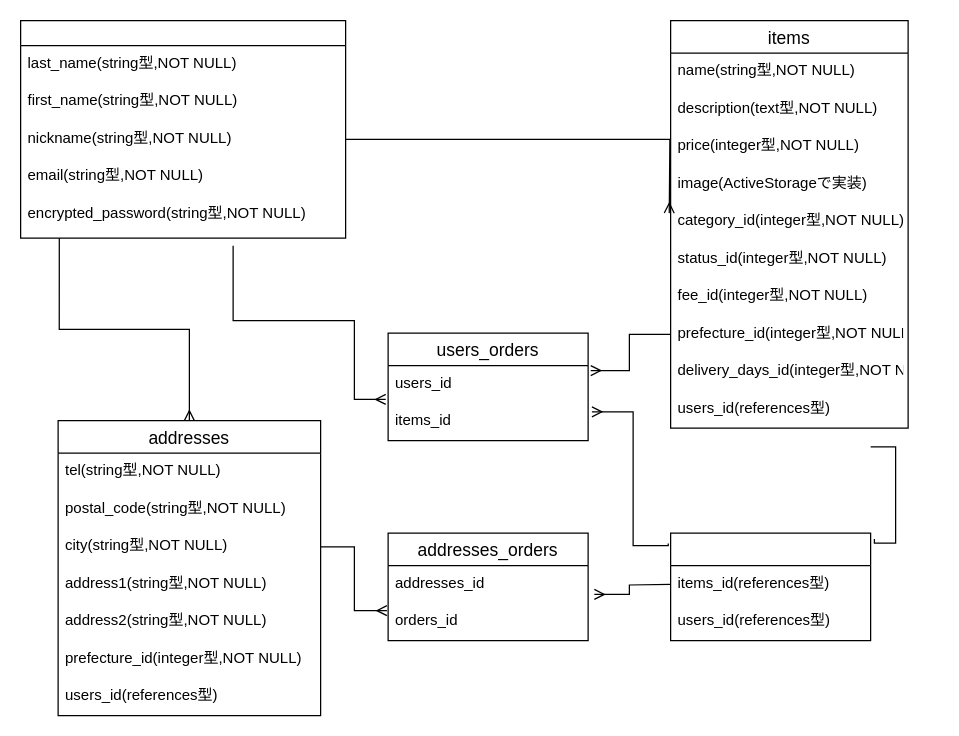
Some shapes in this 959 by 736 pixel diagram are drawn without their labels. Each missing label, with the box of its shape:
orders: (669, 532, 871, 641)
users: (19, 19, 346, 238)
